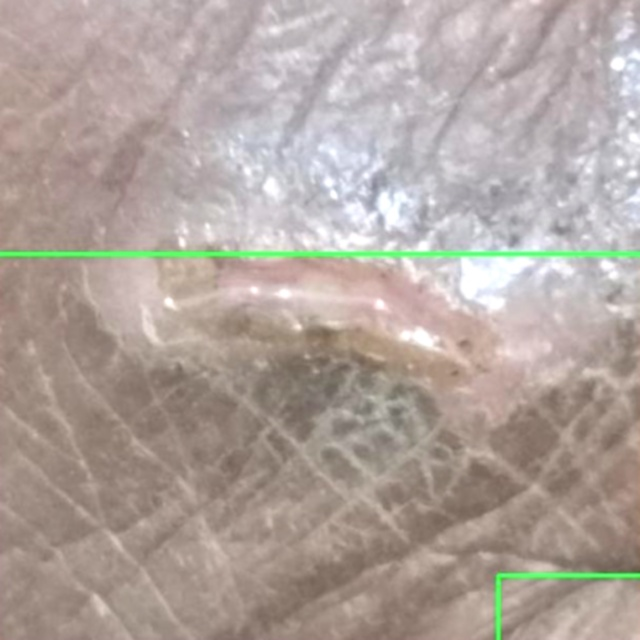Eczema: (0, 253, 639, 639), (498, 575, 639, 639)
